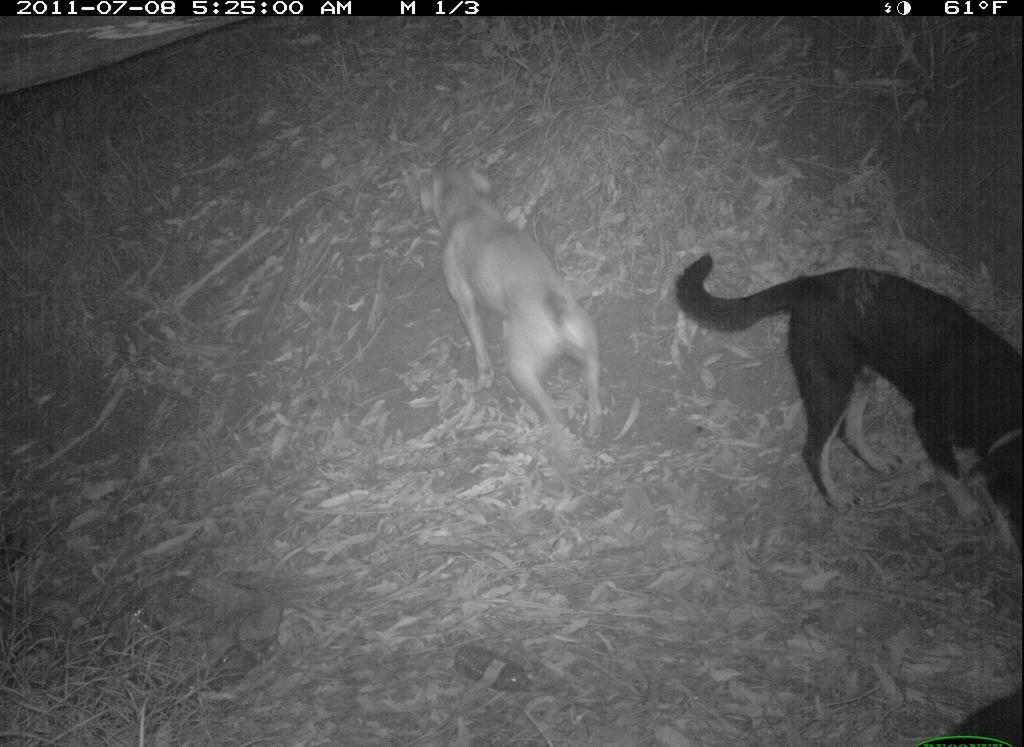dog: (667, 239, 1021, 566), (414, 131, 611, 456)
